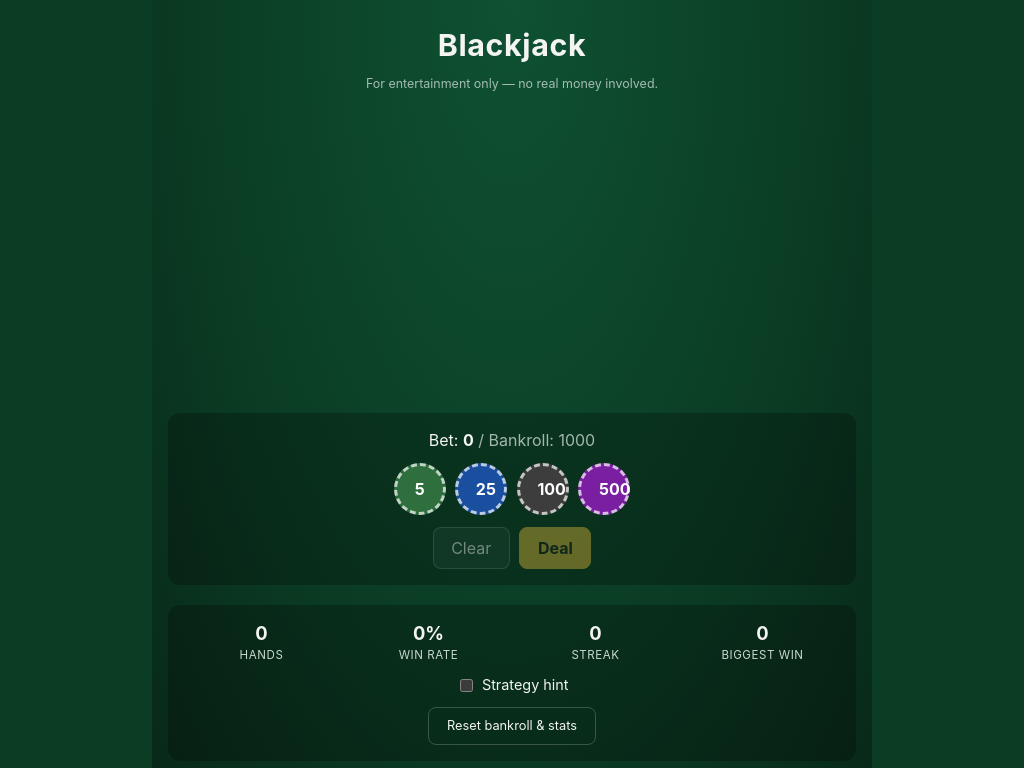
Scenario: App › lets a player place a bet and deal a round
The image size is (1024, 768).
Expected: the text "/ Bankroll: 1000" is shown, [478,430,595,450]
Click the button "25".
click(481, 489)  # box [455,463,507,515]
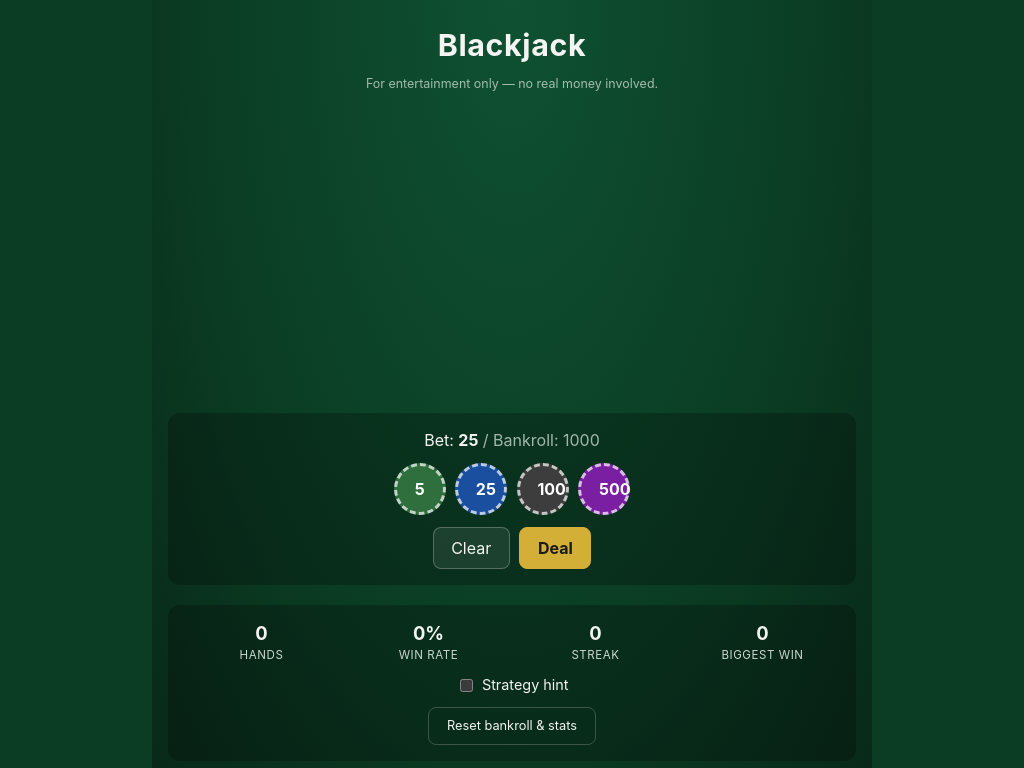
Result: the text "Bet: 25 / Bankroll: 1000" is shown at [424,429,600,451]
Click the button "Deal".
click(555, 548)  # box [519,527,592,569]
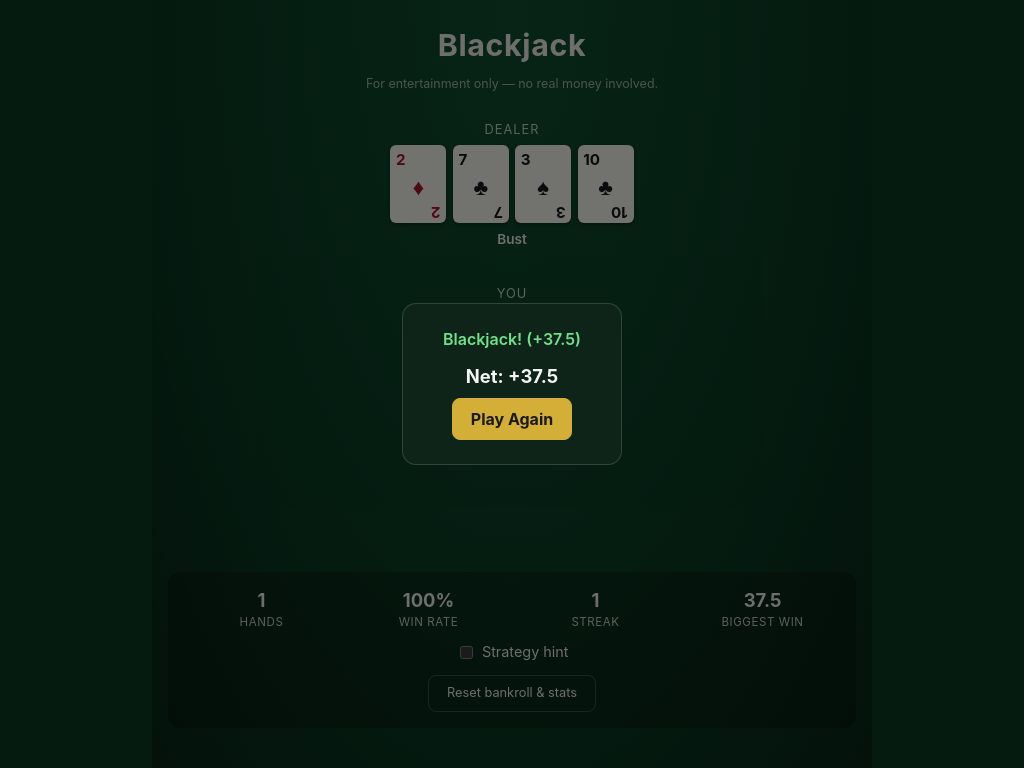
Result: the text "Dealer" is shown at [484,121,540,139]
Result: the text "You" is shown at [497,285,527,303]
